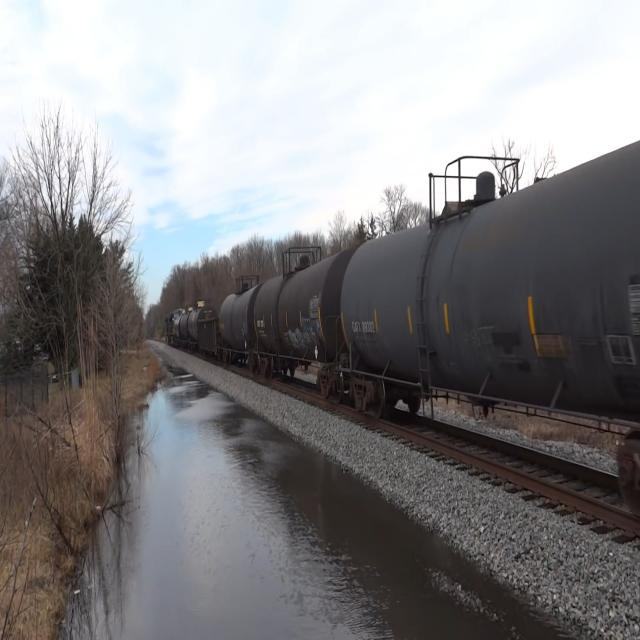tank: (342, 99, 640, 534), (249, 237, 354, 400), (216, 280, 253, 376)
